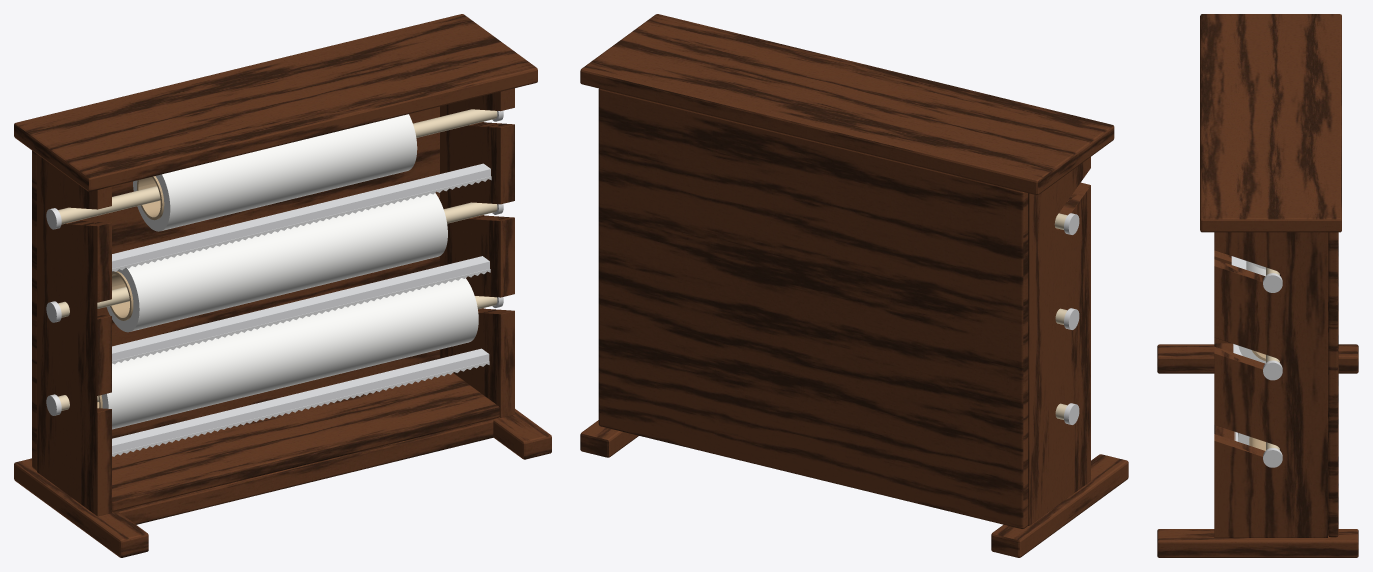
The model's file is PaperRollRack.glb.
3 views of the same model, side by side, from view 1: azimuth 30°, elevation 25°; view 2: azimuth 150°, elevation 25°; view 3: azimuth 270°, elevation 25° (orthographic). The views are drawn at different scales.
Visible parts, largest first — view 1: Frame_TopCap, Roll_03_Paper, Frame_Side_L, Frame_BottomShelf, Roll_02_Paper, Frame_BackPanel, Roll_01_Paper, Frame_Side_R, Frame_KickRail, Roll_01_CutterBar, Roll_02_CutterBar, Roll_03_CutterBar (+7 smaller); view 2: Frame_BackPanel, Frame_TopCap, Frame_Side_L, Frame_Foot_L, Frame_Foot_R; view 3: Frame_Side_R, Frame_TopCap, Frame_Foot_R, Frame_BackPanel, Frame_Foot_L, Frame_BottomShelf, Roll_02_Paper, Roll_02_DowelCap_R, Roll_03_DowelCap_R, Roll_01_DowelCap_R.
Part boxes in pixels (x1,y1,x2,y2): Frame_TopCap: [14, 14, 537, 191]; Roll_03_Paper: [101, 278, 478, 429]; Frame_Side_L: [37, 154, 111, 516]; Frame_BottomShelf: [112, 373, 499, 511]; Roll_02_Paper: [106, 193, 447, 332]; Frame_BackPanel: [32, 106, 439, 470]; Roll_01_Paper: [133, 114, 417, 231]; Frame_Side_R: [440, 88, 514, 417]; Frame_KickRail: [117, 419, 493, 524]; Roll_01_CutterBar: [112, 163, 490, 268]; Roll_02_CutterBar: [112, 256, 489, 360]; Roll_03_CutterBar: [112, 348, 489, 453]; Frame_BackPanel: [598, 88, 1028, 528]; Frame_TopCap: [580, 14, 1114, 195]; Frame_Side_L: [1028, 157, 1090, 525]; Frame_Foot_L: [991, 454, 1128, 557]; Frame_Foot_R: [580, 420, 638, 457]; Frame_Side_R: [1214, 232, 1327, 537]; Frame_TopCap: [1200, 14, 1341, 232]; Frame_Foot_R: [1157, 529, 1358, 557]; Frame_BackPanel: [1328, 232, 1338, 537]; Frame_Foot_L: [1157, 344, 1358, 373]; Frame_BottomShelf: [1214, 343, 1235, 440]; Roll_02_Paper: [1238, 261, 1265, 363]; Roll_02_DowelCap_R: [1263, 360, 1282, 380]; Roll_03_DowelCap_R: [1263, 448, 1282, 467]; Roll_01_DowelCap_R: [1263, 273, 1282, 292].
Size of the model in its own units: 0.556 by 0.433 by 0.23.
9 materials, 1 textured.
